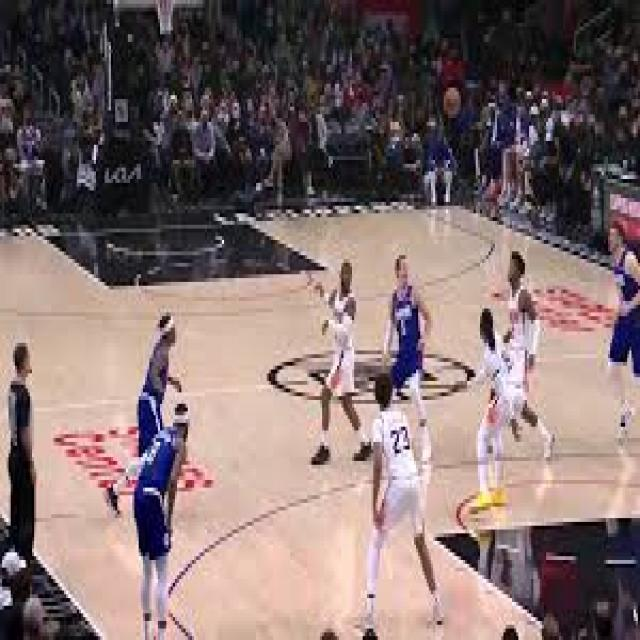rim: (444, 84, 461, 118)
